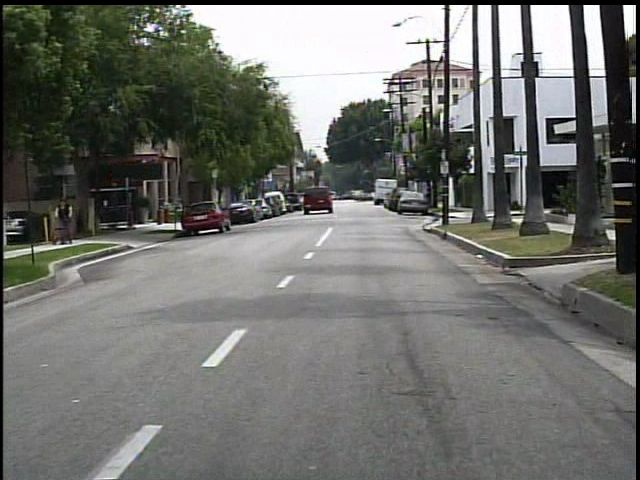person: (56, 196, 82, 246)
